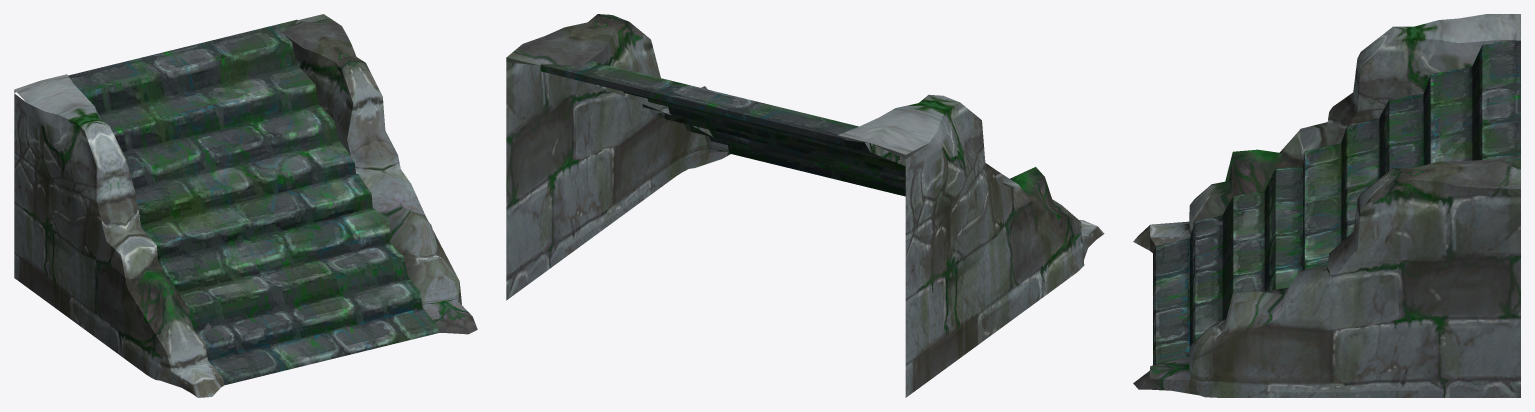
File: stemple_half_stair_01.fbx
3 renders of one model, left to right at view 1: azimuth 30°, elevation 25°; view 2: azimuth 150°, elevation 25°; view 3: azimuth 270°, elevation 25°, orthographic. The views are drawn at different scales.
Parts seen in each view (by area): view 1: stemple_half_stair_01-0; view 2: stemple_half_stair_01-0; view 3: stemple_half_stair_01-0.
Boxes of the visible parts, x1,y1,x2,y2 form: stemple_half_stair_01-0: [14, 14, 477, 397]; stemple_half_stair_01-0: [506, 14, 1104, 397]; stemple_half_stair_01-0: [1133, 14, 1520, 397].
Size of the model in its own units: 4.91 by 2.92 by 4.63.
